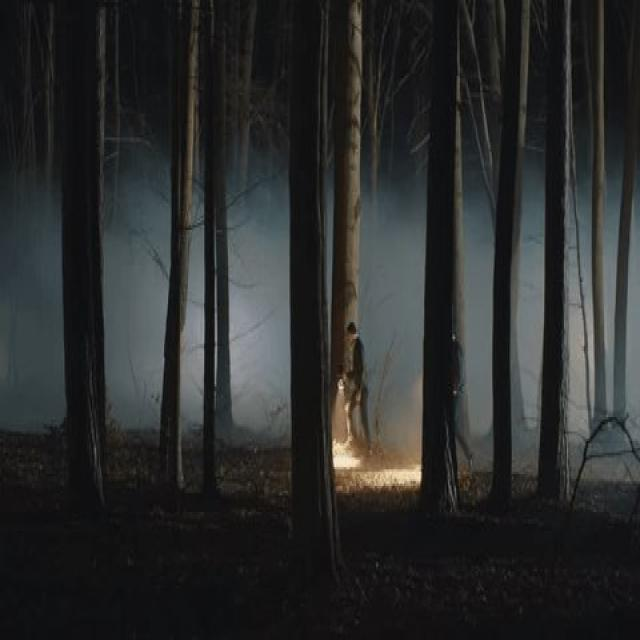Forest: (0, 5, 640, 640)
Militant: (337, 307, 385, 483)
